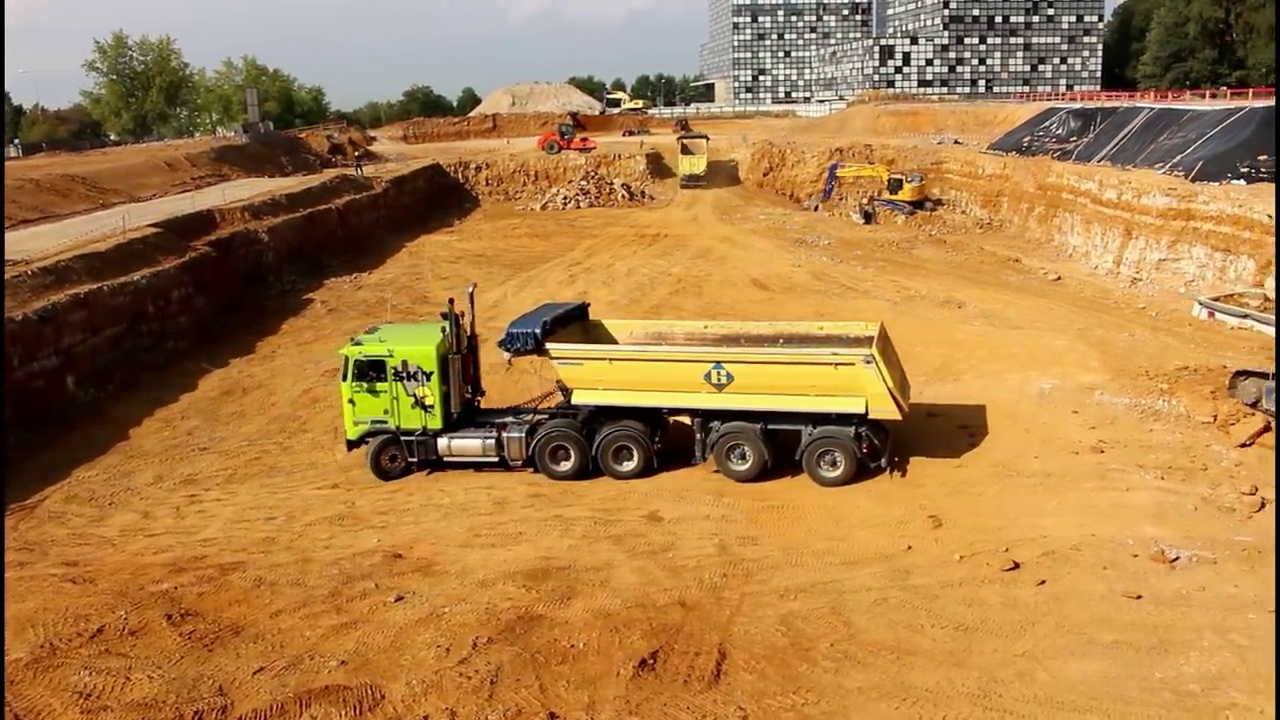compactor: (537, 120, 602, 158)
excavator: (818, 154, 945, 219), (598, 89, 656, 121)
truck: (329, 275, 918, 493), (671, 128, 716, 189)
